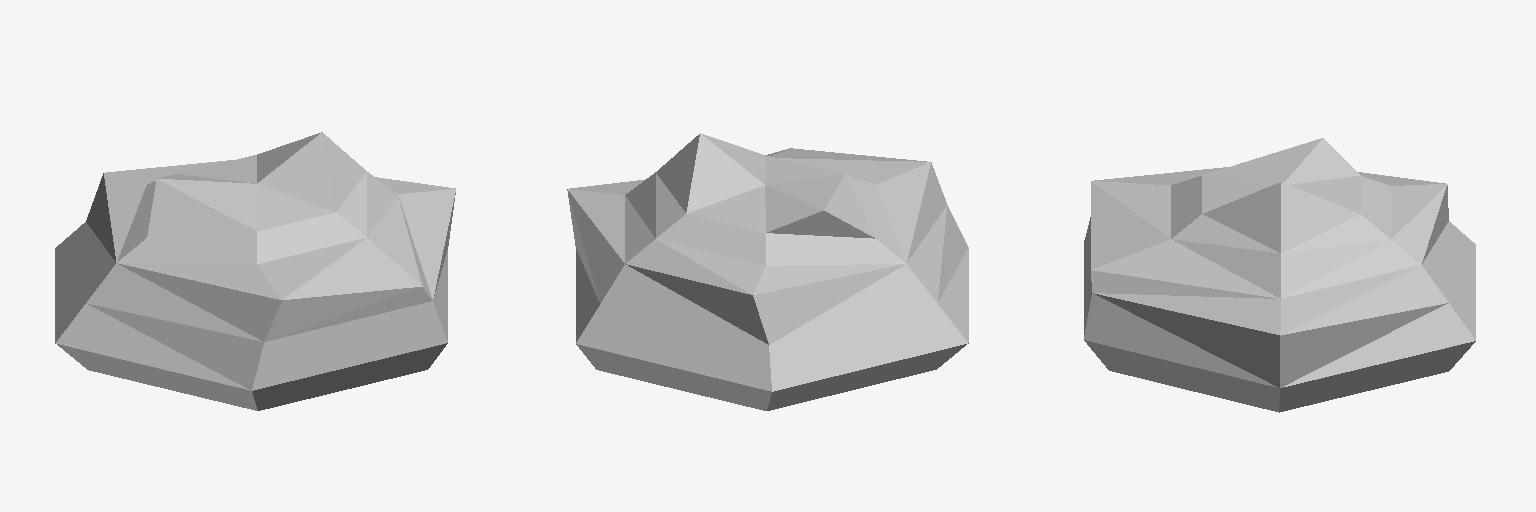
The model's file is HoneyTowerProjectile2.obj.
3 renders of one model, left to right at view 1: azimuth 30°, elevation 25°; view 2: azimuth 150°, elevation 25°; view 3: azimuth 270°, elevation 25°, orthographic.
Parts seen in each view (by area): view 1: HoneyProjectile; view 2: HoneyProjectile; view 3: HoneyProjectile.
Boxes of the visible parts, <box> form: HoneyProjectile: <box>55,132,455,410</box>; HoneyProjectile: <box>567,133,968,410</box>; HoneyProjectile: <box>1084,138,1475,412</box>.
Bounding box in the file's own units: 1.29 × 0.6581 × 1.09.